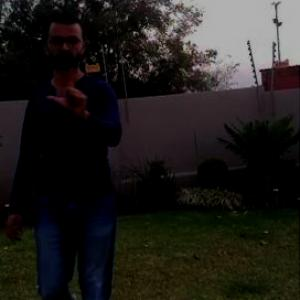land_hand: (43, 58, 93, 112)
